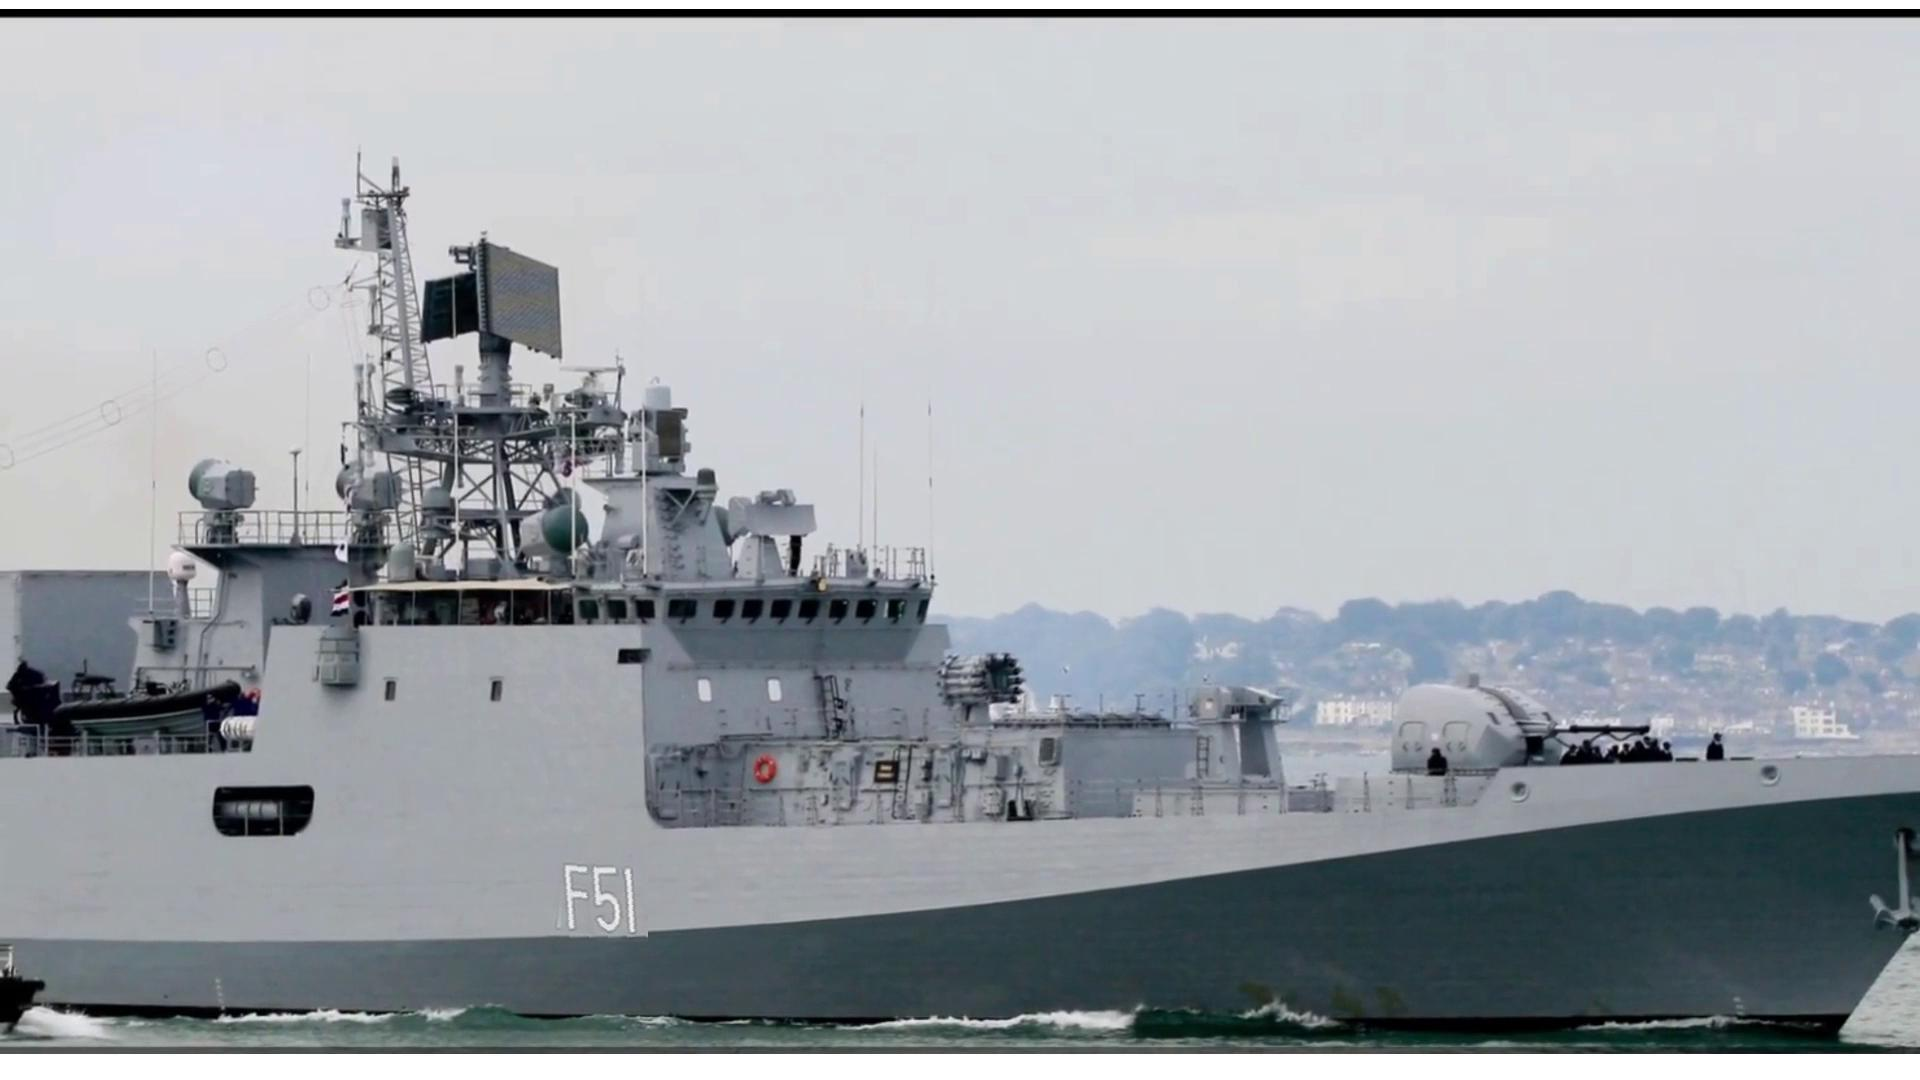OCR: (546, 853, 649, 943)
